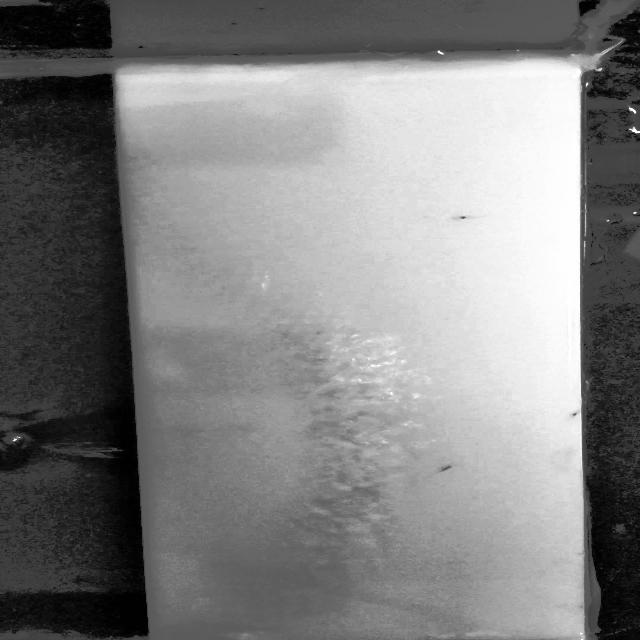shrimp: (409, 463, 458, 481), (442, 211, 484, 225), (561, 407, 583, 420)
